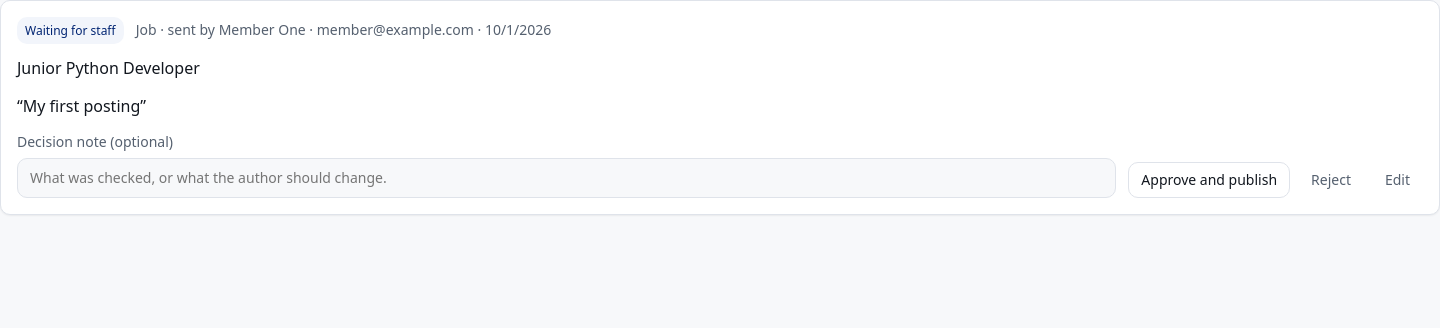
it: SubmissionQueueCard › lists what is missing when approval finds a publish blocker
Step 1. Click the button "Approve and publish" → [1209, 180], box [1128,162,1290,198]
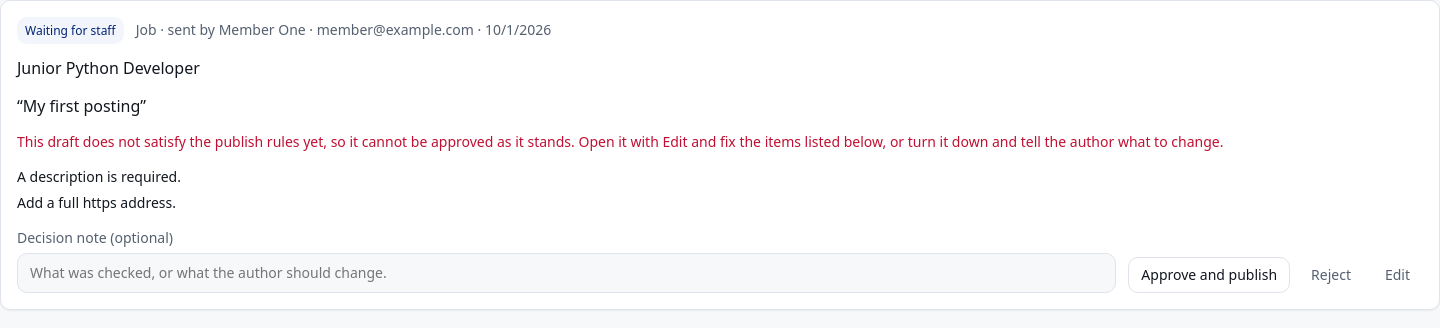
expect the text "cannot be approved as it stands" is shown: met, box [17,132,1223,151]
expect the list item "A description is required." is shown: met, box [17,167,181,186]
expect the list item "Add a full https address." is shown: met, box [17,193,176,212]
